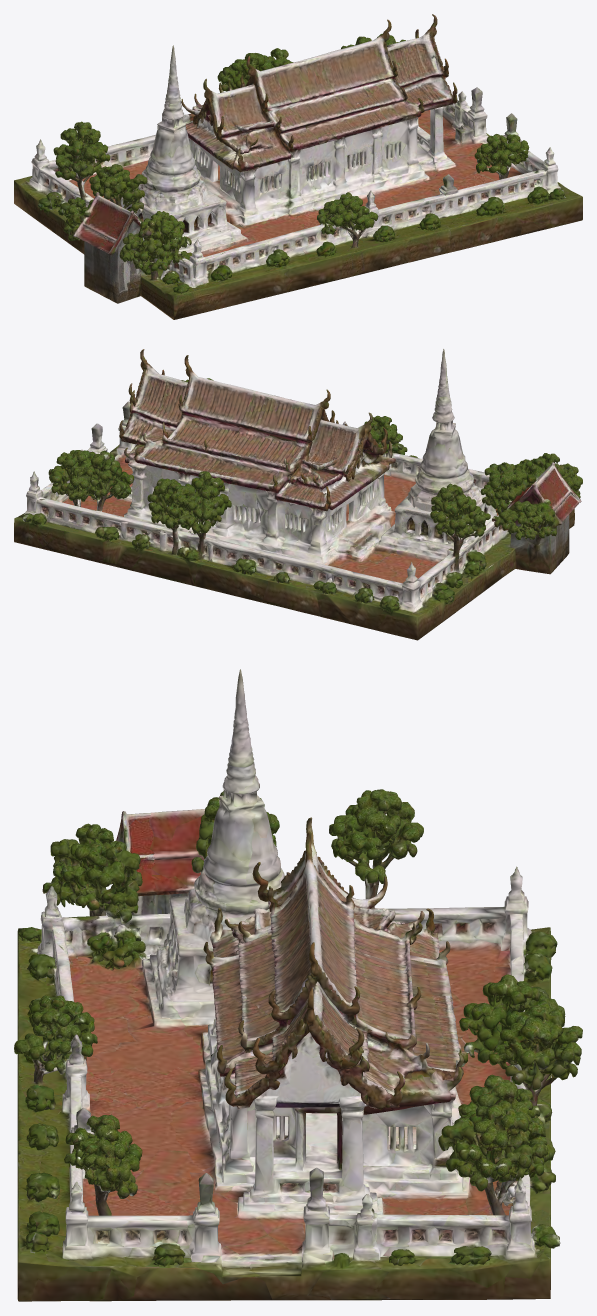
Rendered from kawisararam.ar.glb.
3 views of the same model, one above another, from view 1: azimuth 30°, elevation 25°; view 2: azimuth 150°, elevation 25°; view 3: azimuth 270°, elevation 25° (orthographic). The views are drawn at different scales.
Bounding box in the file's own units: 0.4 × 0.1778 × 0.26.
Materials: 1 (1 with a texture image).
